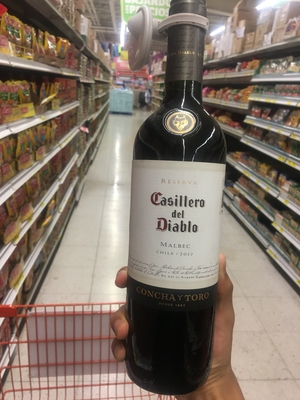casillero del diablo malbec: (114, 11, 257, 396)
